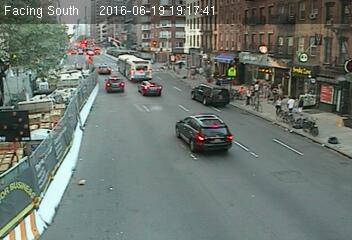neg: (152, 45, 168, 66), (190, 46, 202, 61), (176, 39, 185, 51)
pos: (285, 94, 300, 114), (273, 96, 288, 115)
